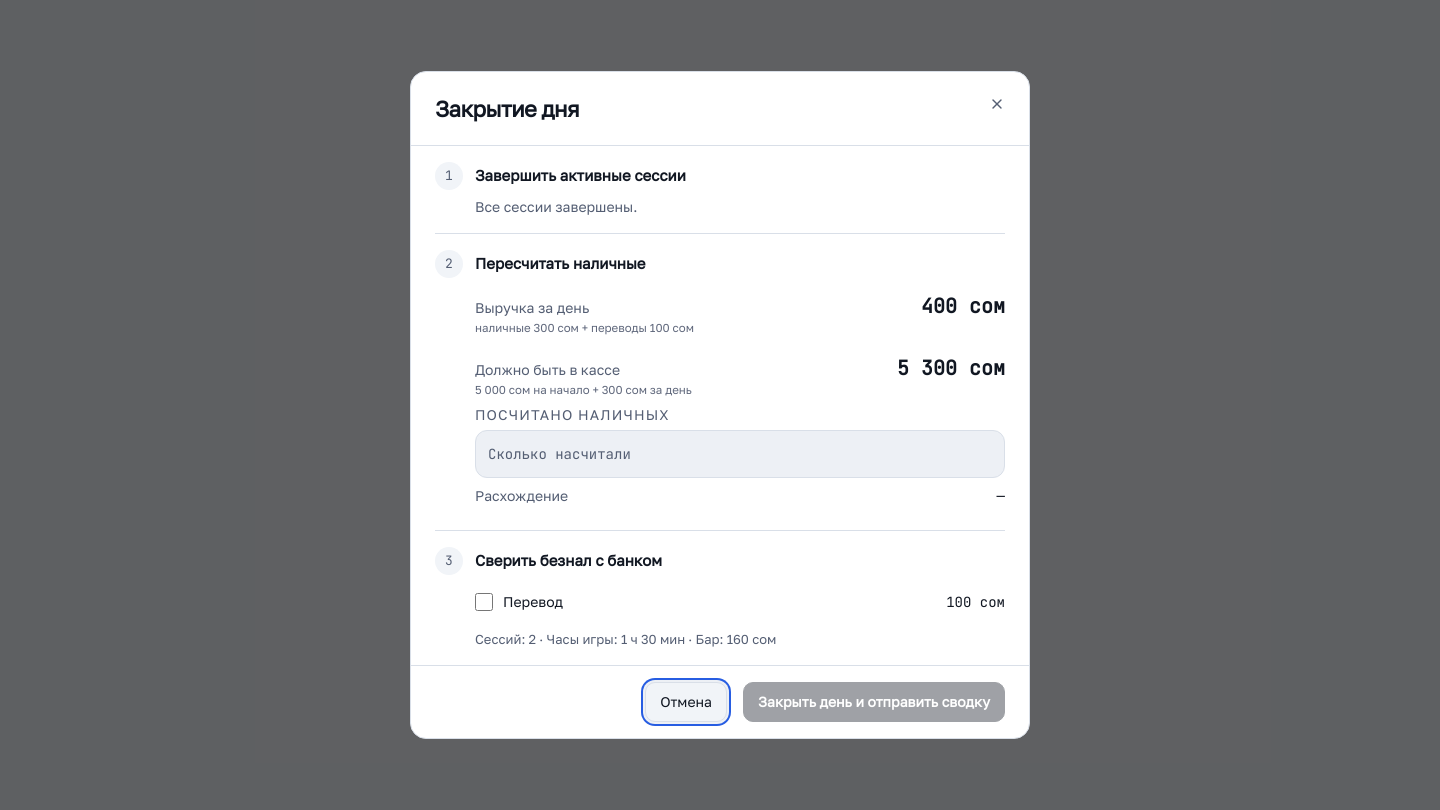
Scenario: CloseBusinessDayDialog › highlights a discrepancy between expected and counted cash
Type "5200" into the number field labelled "Посчитано наличных" at (740, 454), box [475,430,1005,478]
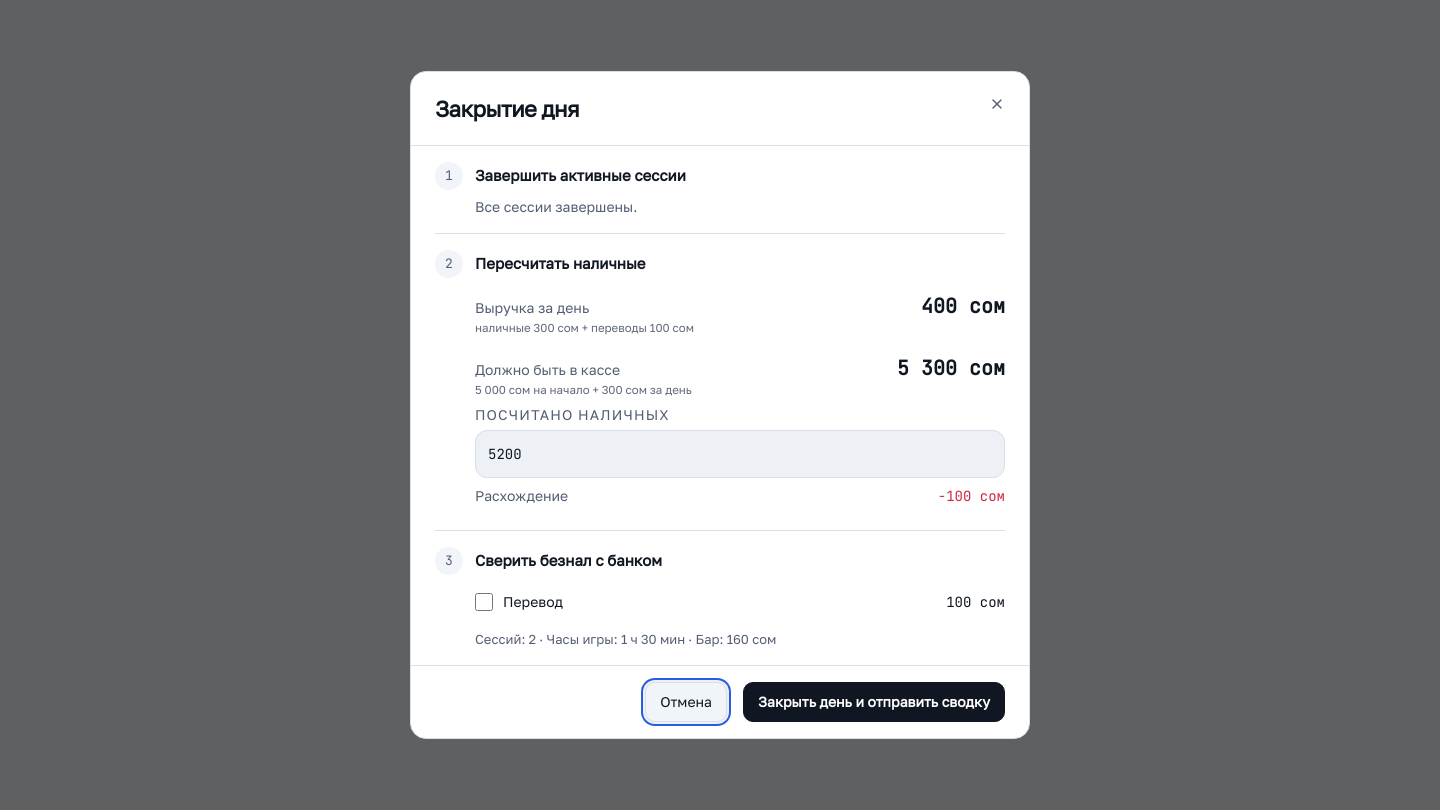
Expected: the text with test id "discrepancy" reads "−100 сом", [938,487,1005,505]
